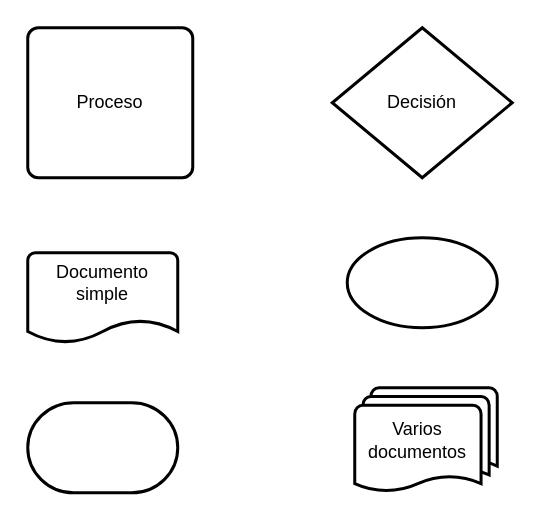
Image size: 539x519. Some labels were removed from this diagram. Each missing label, with the box of its shape:
Final: (26, 400, 178, 494)
Inicio: (345, 236, 498, 328)
